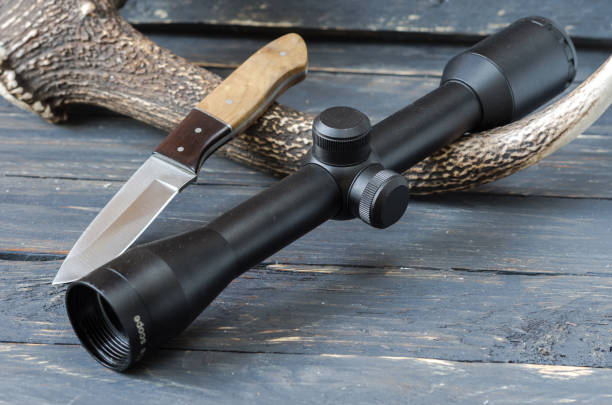knife: (49, 32, 309, 287)
